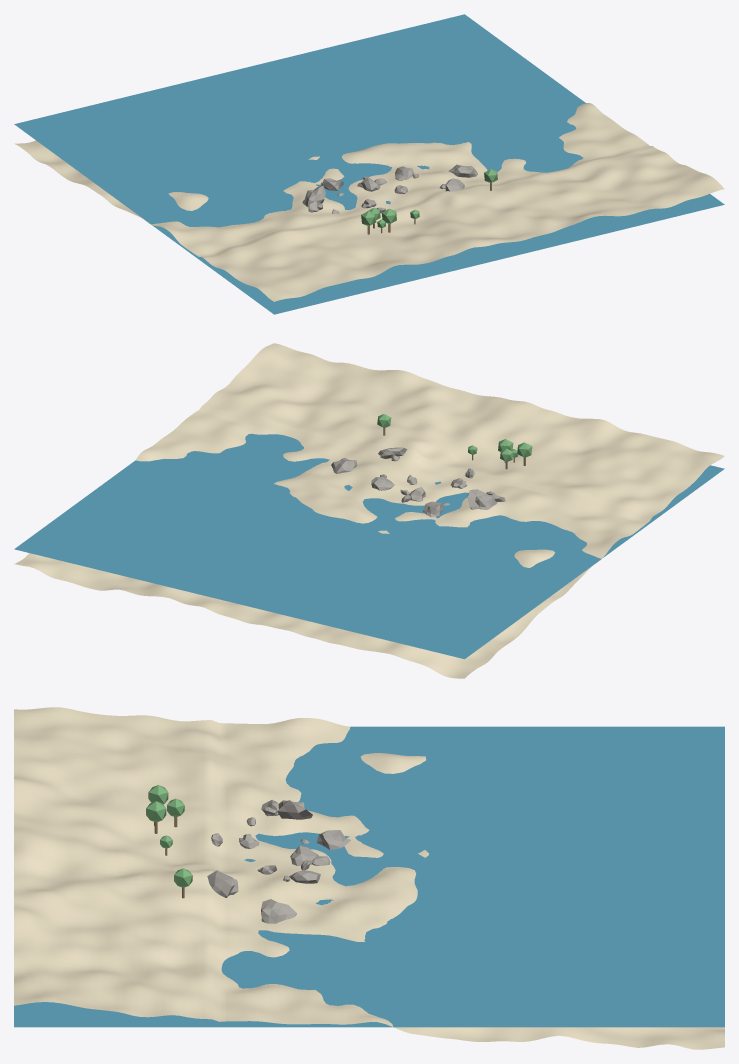
Rendered from land_shore.glb.
The picture shows the model from 3 angles, top to bottom: view 1: azimuth 30°, elevation 25°; view 2: azimuth 150°, elevation 25°; view 3: azimuth 270°, elevation 25°; orthographic projection. The views are drawn at different scales.
Parts seen in each view (by area): view 1: water, ground, rocks, plants; view 2: ground, water, rocks, plants; view 3: water, ground, rocks, plants.
Part boxes in pixels (bbox=[...]): water: bbox=[14, 14, 724, 314]; ground: bbox=[14, 103, 724, 301]; rocks: bbox=[302, 164, 477, 213]; plants: bbox=[361, 169, 497, 228]; ground: bbox=[14, 343, 724, 678]; water: bbox=[14, 433, 724, 659]; rocks: bbox=[331, 447, 505, 517]; plants: bbox=[377, 414, 532, 461]; water: bbox=[14, 726, 724, 1027]; ground: bbox=[14, 707, 724, 1049]; rocks: bbox=[207, 800, 350, 923]; plants: bbox=[146, 785, 192, 887].
Bounding box in the file's own units: 80 × 9.22 × 80.
